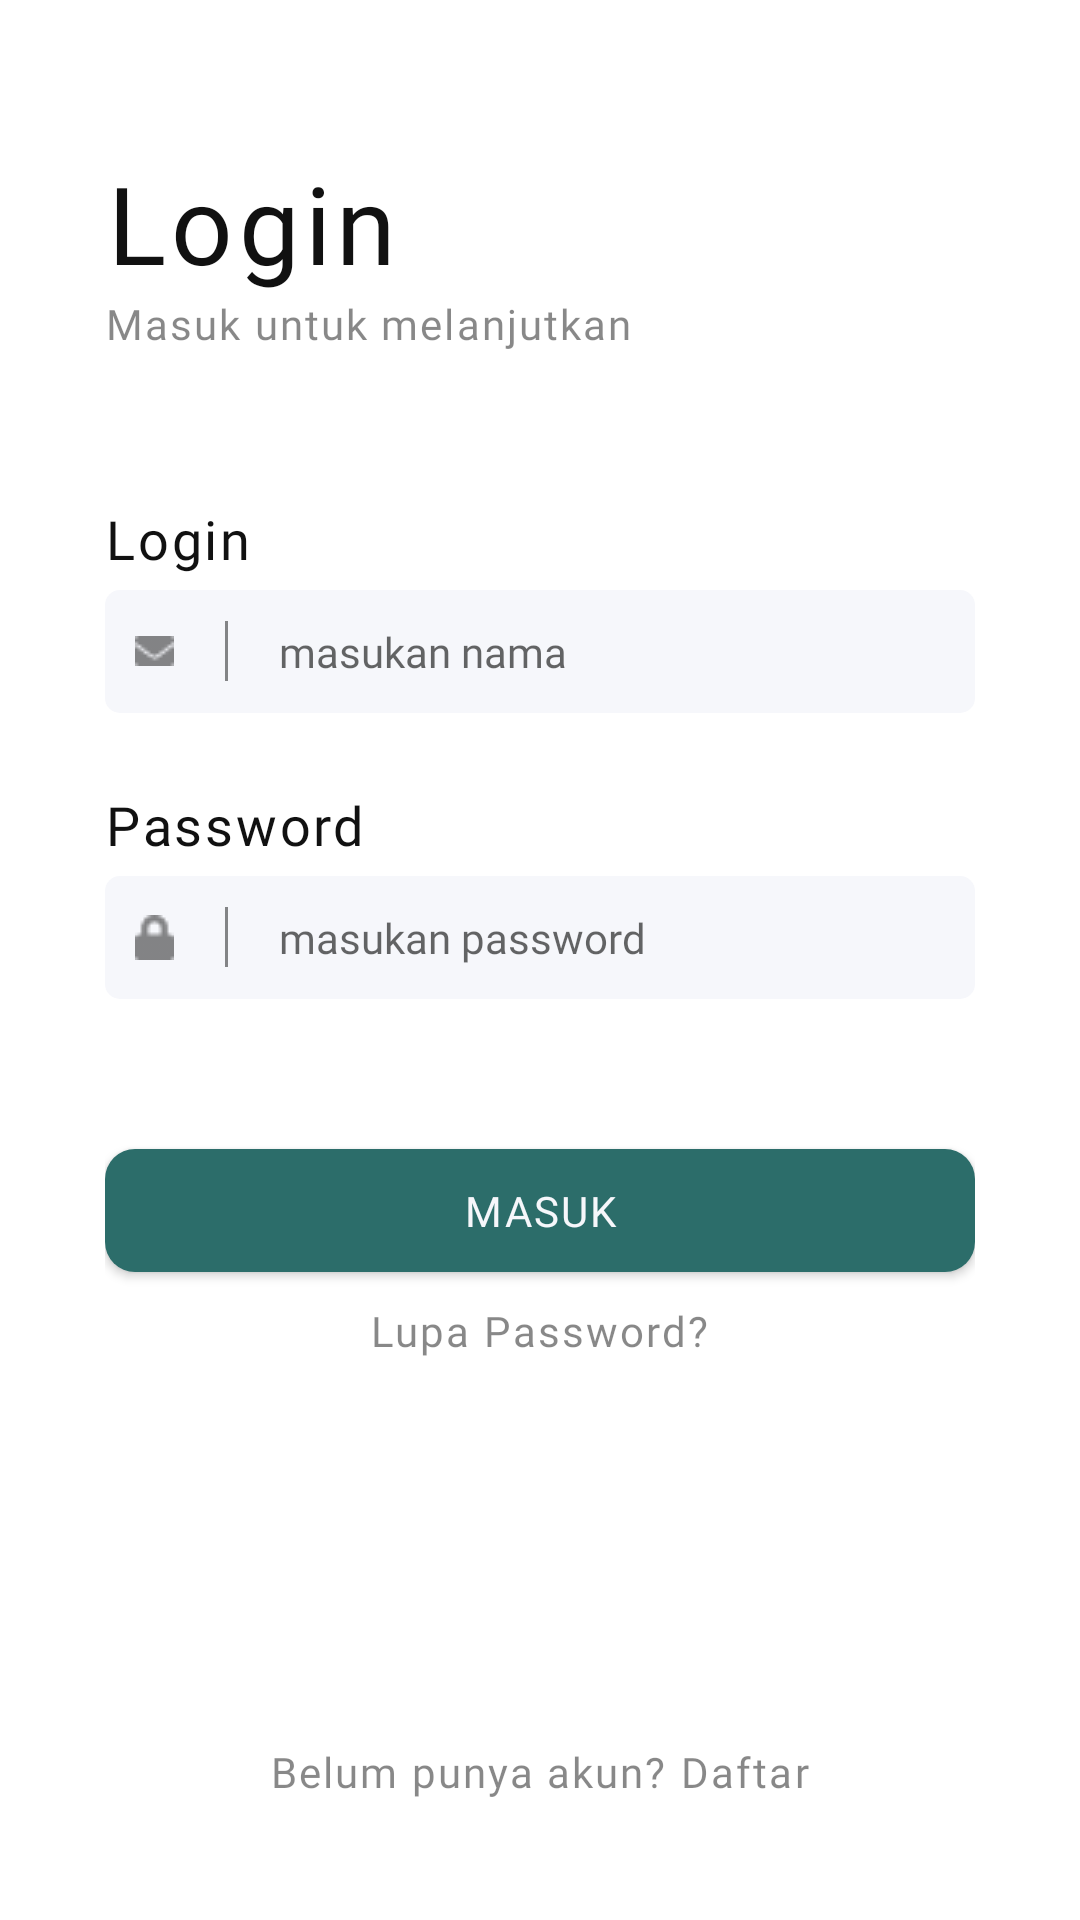

Where icons sit on this 1080 × 1920 app screen, as (x1, y1, x2, y2):
email: (135, 636, 174, 666)
lock: (135, 915, 174, 960)
